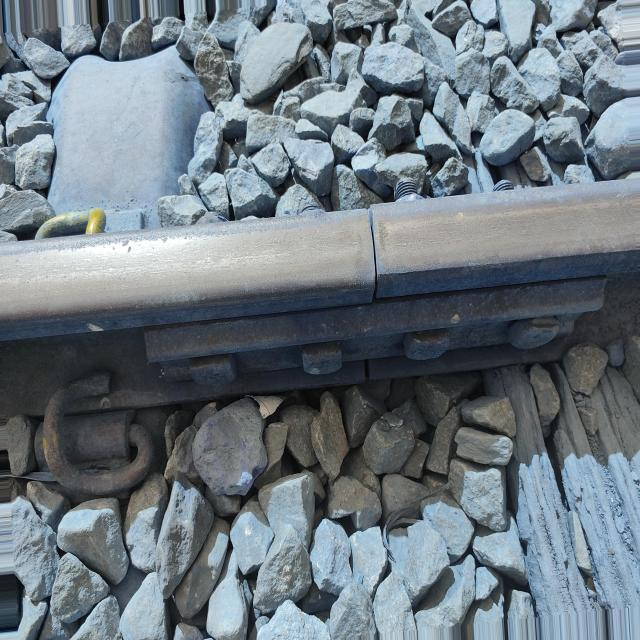Good Fasteners: (10, 366, 185, 503), (15, 178, 146, 252)
Good Joint: (118, 202, 593, 402)
